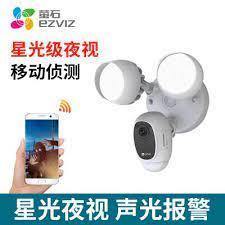maru: (119, 110, 175, 170)
